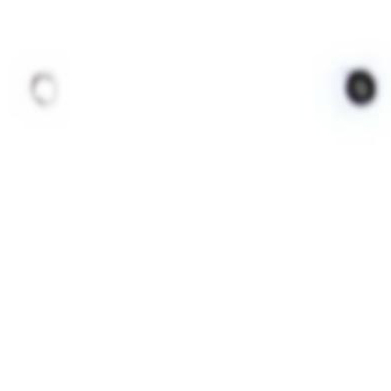abnormal: (12, 54, 78, 115)
cancer: (319, 56, 388, 123)
